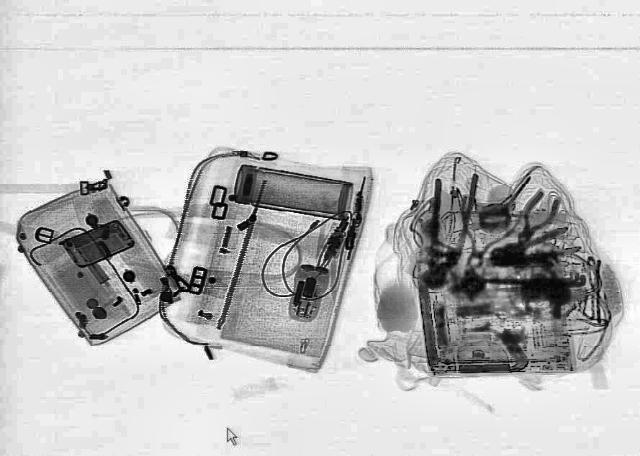Pliers: (436, 196, 528, 276), (420, 172, 478, 288), (490, 224, 584, 269), (506, 190, 566, 246)
